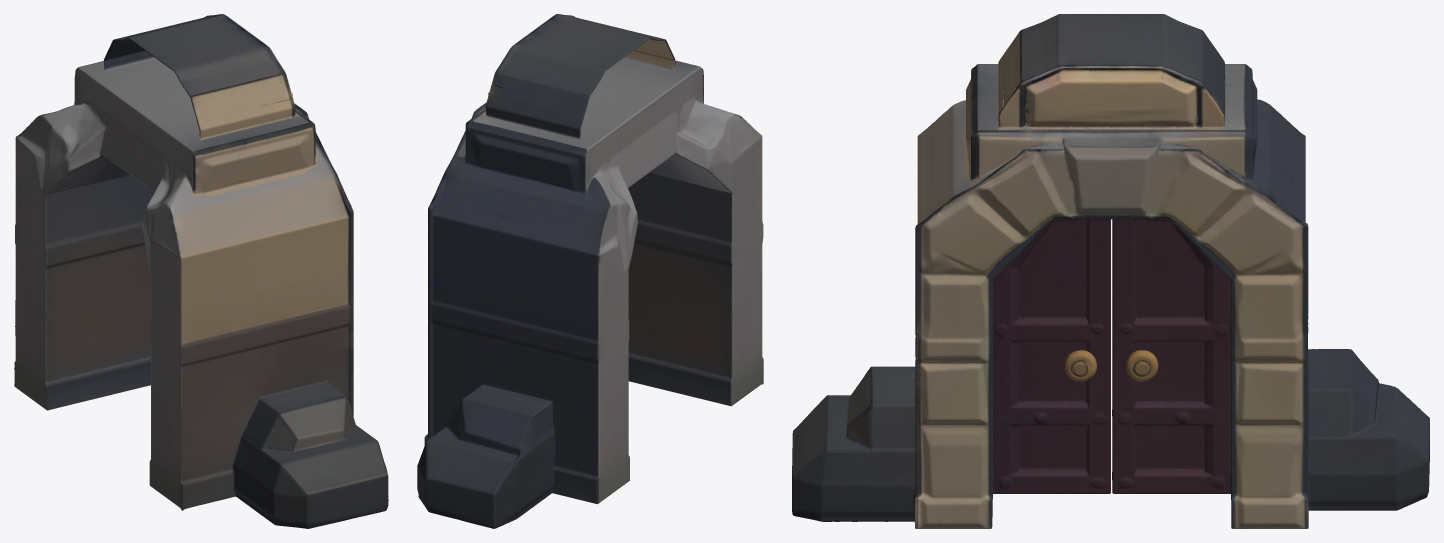
File: dungeon_gate.glb
3 renders of one model, left to right at view 1: azimuth 30°, elevation 25°; view 2: azimuth 150°, elevation 25°; view 3: azimuth 270°, elevation 25°, orthographic. The views are drawn at different scales.
Visible parts, largest first — view 1: tripo_node_0ed06f5a-b09a-4bbe-84aa-f32fffc899f6; view 2: tripo_node_0ed06f5a-b09a-4bbe-84aa-f32fffc899f6; view 3: tripo_node_0ed06f5a-b09a-4bbe-84aa-f32fffc899f6.
Boxes of the visible parts, bbox=[...] form: tripo_node_0ed06f5a-b09a-4bbe-84aa-f32fffc899f6: bbox=[14, 14, 388, 528]; tripo_node_0ed06f5a-b09a-4bbe-84aa-f32fffc899f6: bbox=[417, 14, 763, 528]; tripo_node_0ed06f5a-b09a-4bbe-84aa-f32fffc899f6: bbox=[792, 14, 1429, 528].
Size of the model in its own units: 0.3796 by 0.7768 by 1.
1 material, 1 textured.
